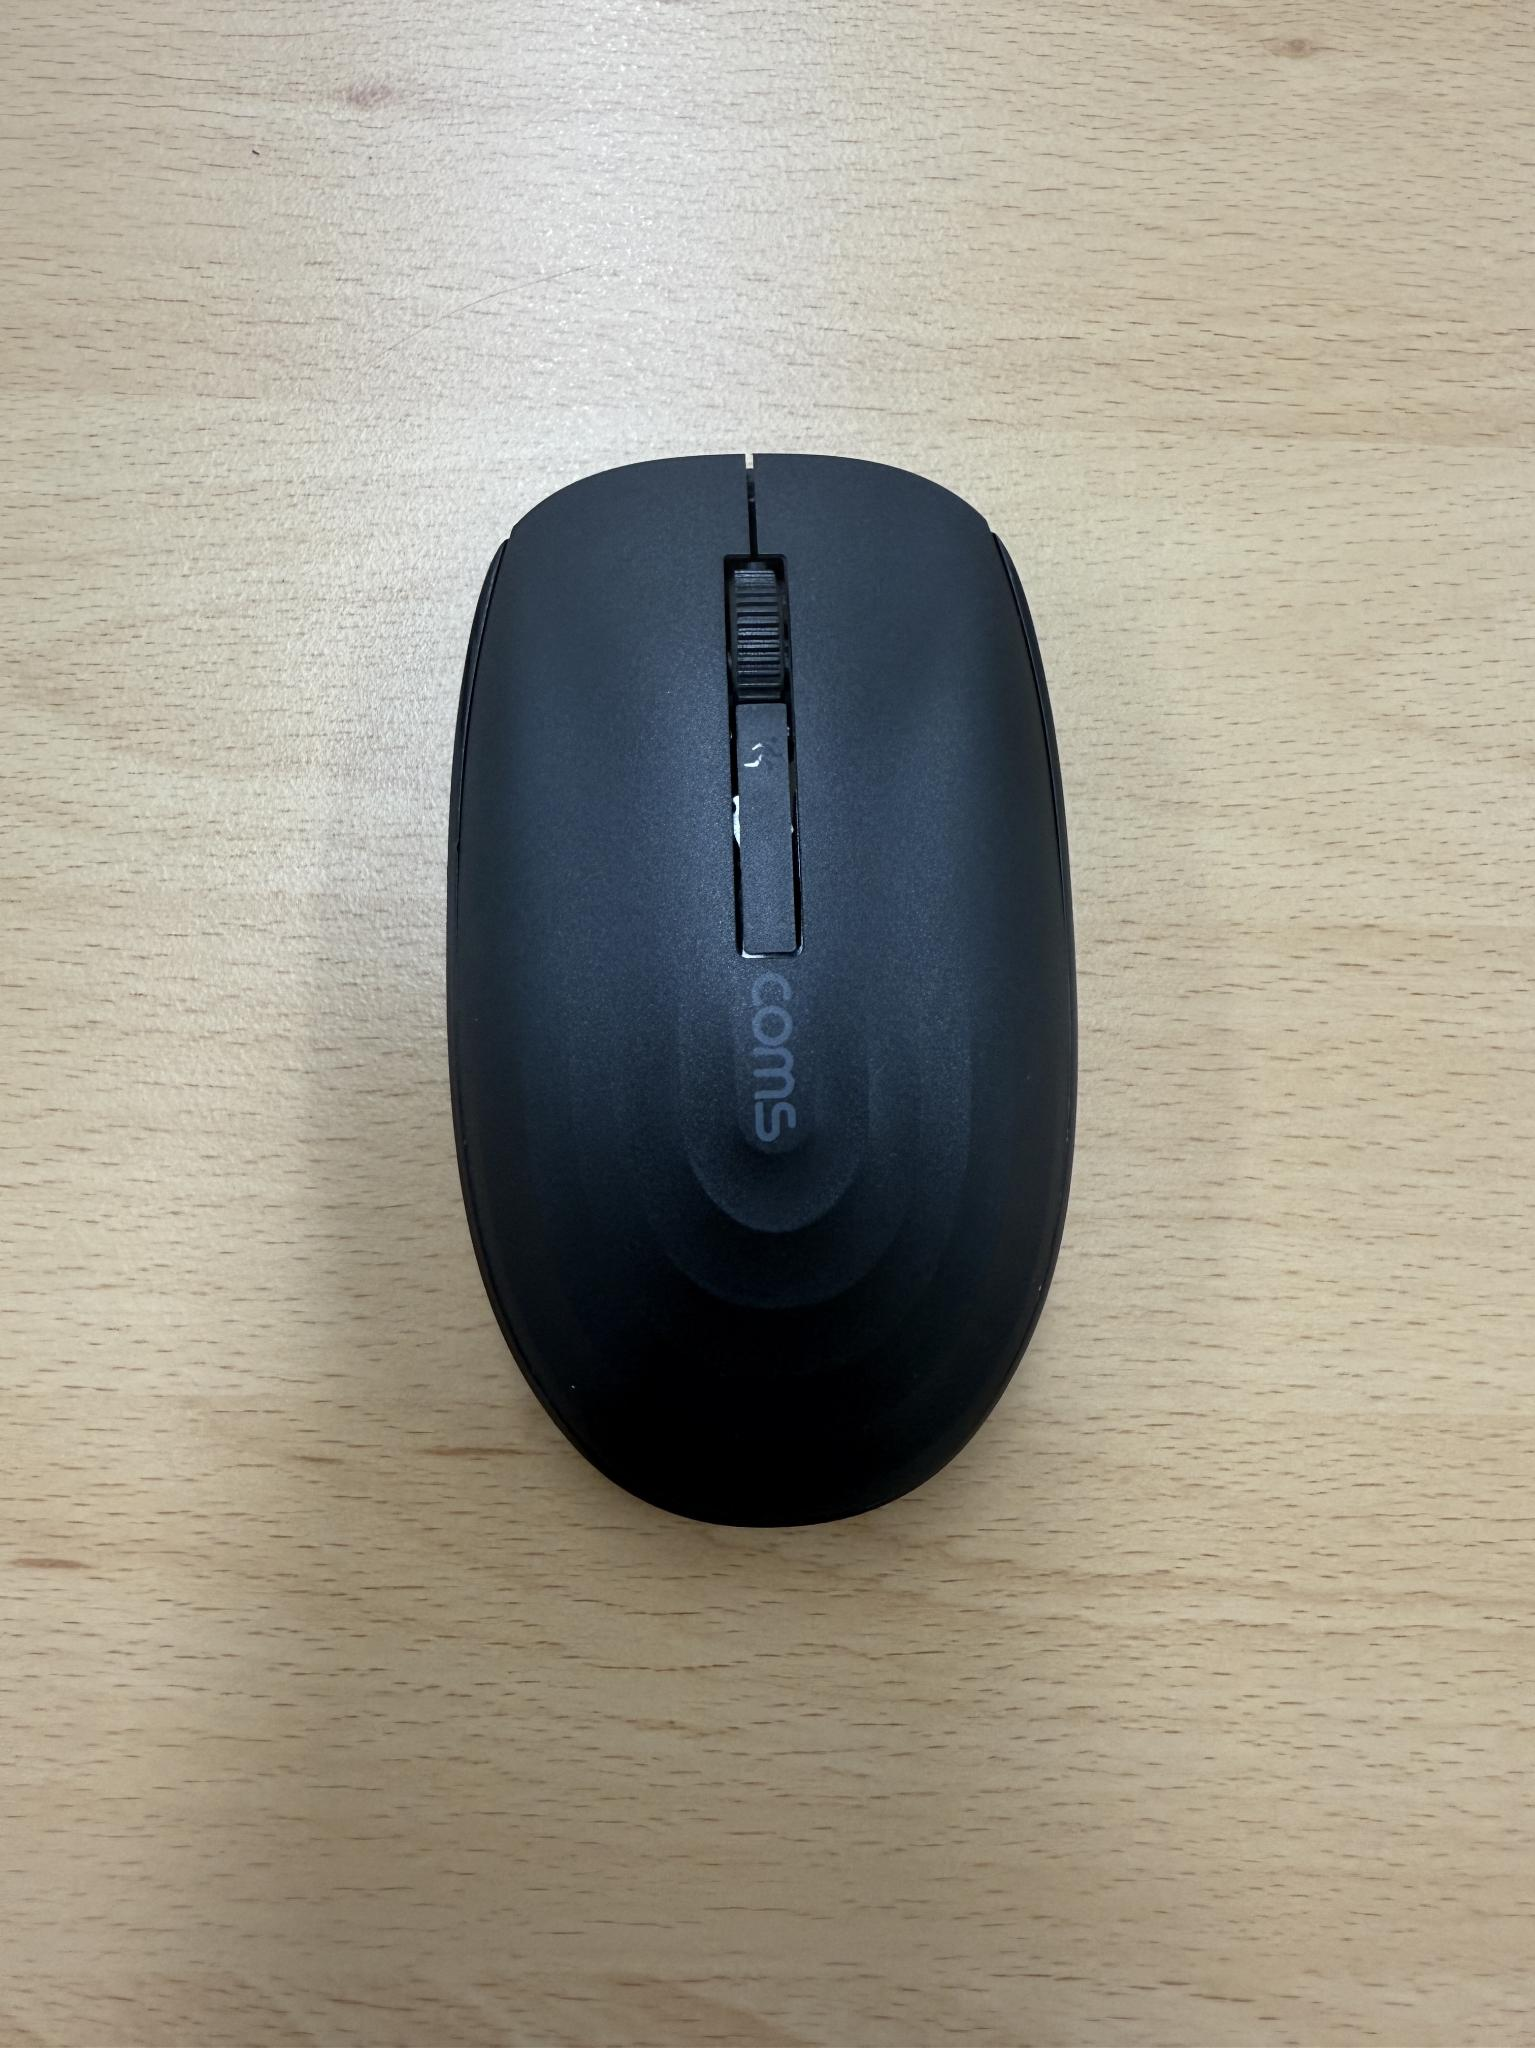front: (442, 450, 1077, 1534)
